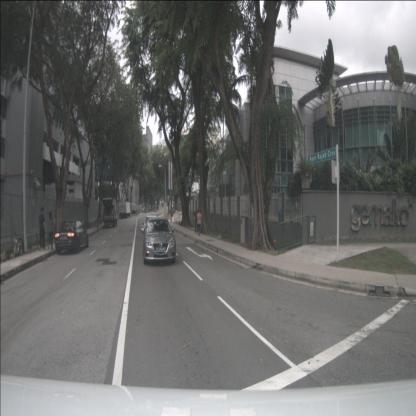human-pedestrian-adult: (47, 210, 56, 250), (38, 206, 46, 250), (197, 210, 202, 236), (194, 212, 199, 234), (96, 212, 100, 234)
vehicle-bicycle: (13, 232, 22, 257)
vehicle-car: (142, 218, 177, 266), (55, 220, 89, 254)
vehicle-truck: (103, 204, 117, 227), (118, 201, 130, 219)
